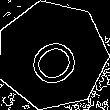O_NE: (18, 22, 86, 88)
